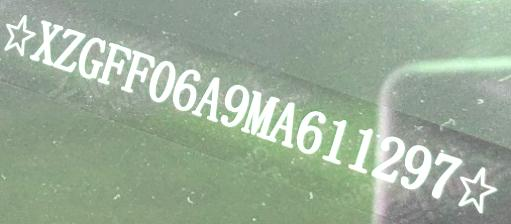letter: (424, 148, 465, 203), (239, 89, 282, 141), (190, 73, 229, 127), (293, 106, 329, 164), (369, 132, 406, 187), (399, 145, 438, 196), (217, 82, 256, 132), (93, 41, 134, 88), (28, 17, 65, 68), (120, 48, 160, 95), (265, 101, 301, 153), (50, 28, 89, 75), (171, 65, 206, 117), (144, 57, 179, 108), (320, 114, 349, 169), (78, 32, 108, 83), (347, 124, 376, 175)
